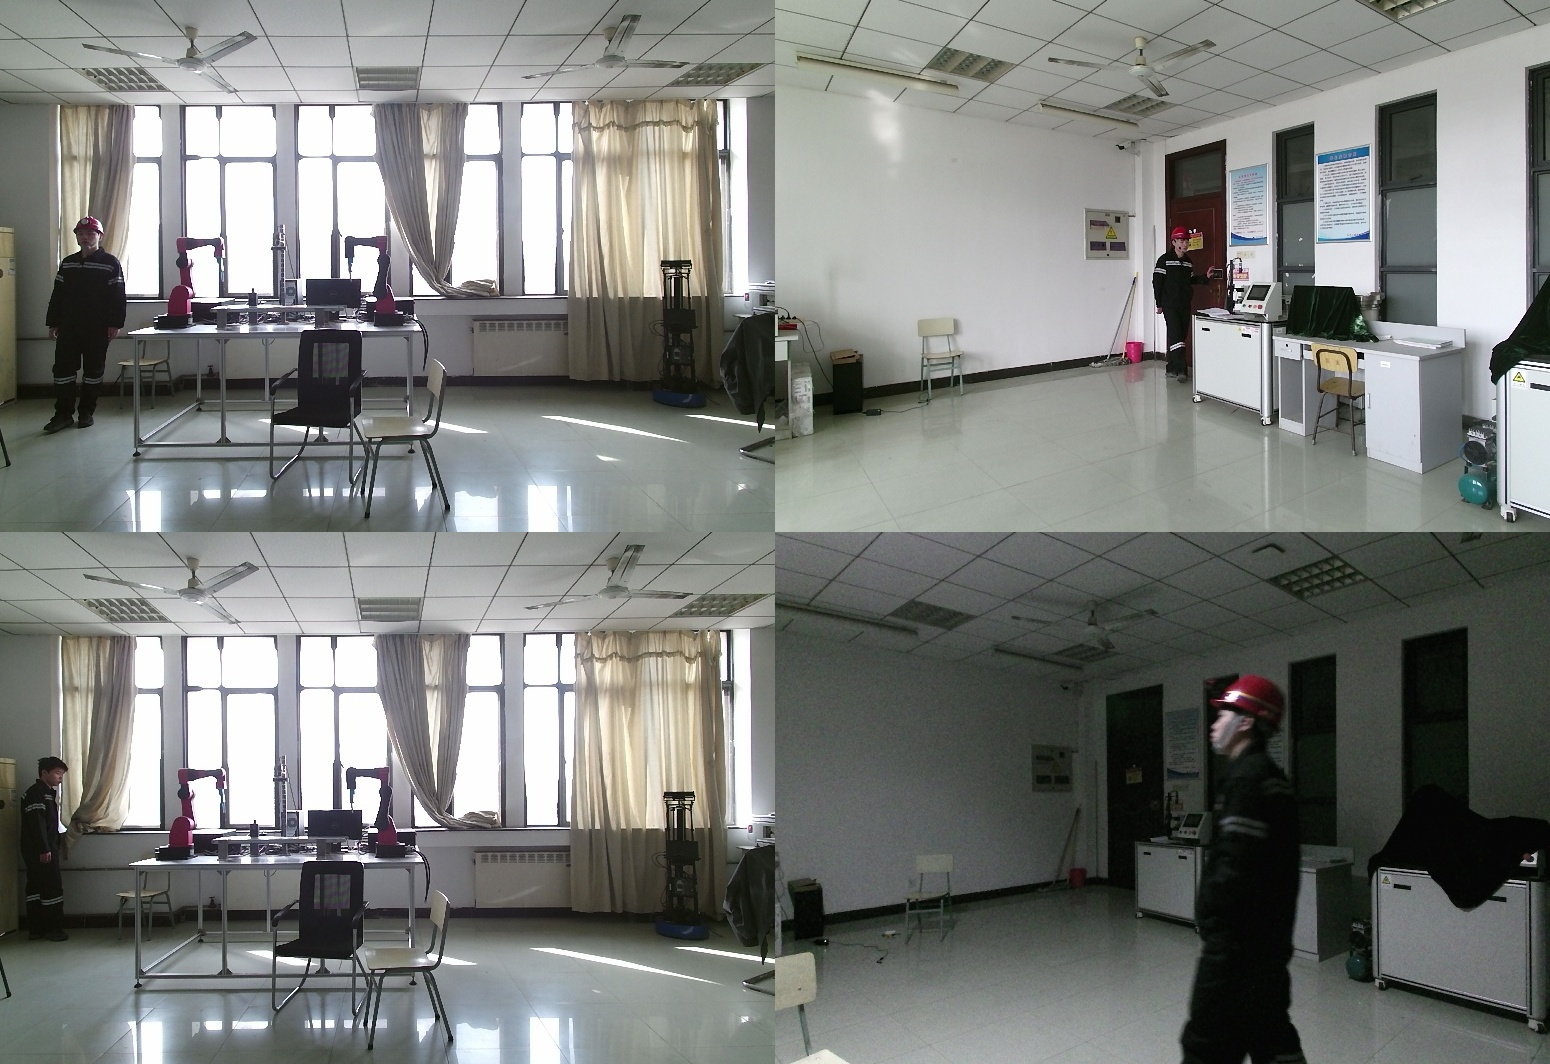person: (1183, 670, 1330, 1064), (40, 215, 127, 433), (11, 760, 69, 940), (1153, 228, 1211, 386)
